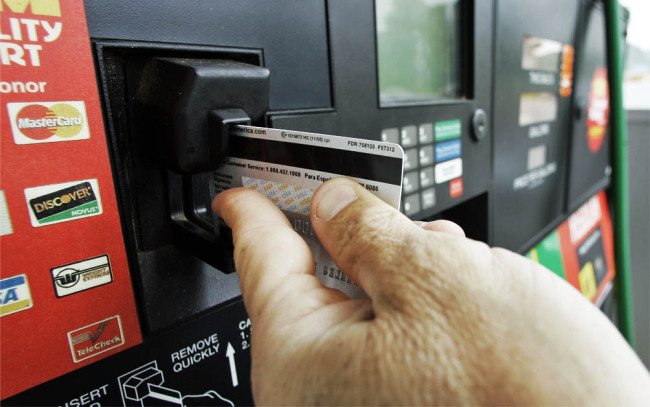tarjeta: (206, 121, 406, 303)
